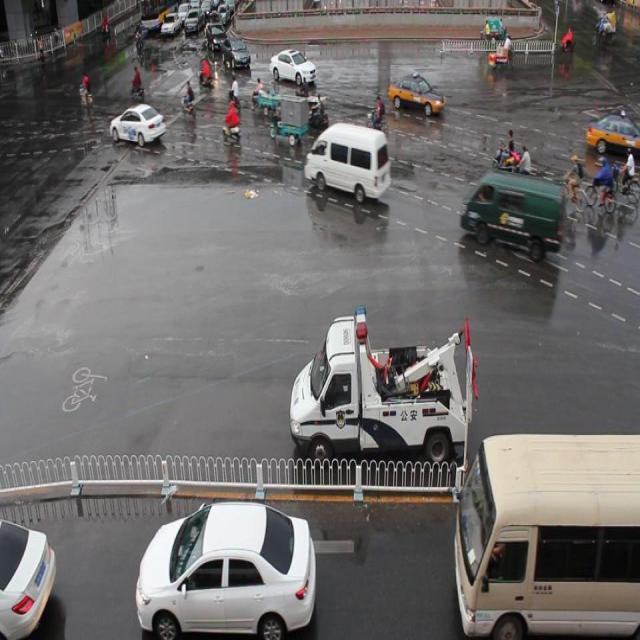bus: (290, 304, 478, 468)
car: (136, 499, 315, 640), (1, 514, 57, 640), (110, 100, 167, 150), (584, 110, 640, 160), (388, 68, 445, 116), (268, 45, 317, 87), (222, 36, 251, 72), (207, 22, 229, 54)
truck: (452, 429, 640, 640), (457, 166, 562, 262), (304, 122, 390, 202)
